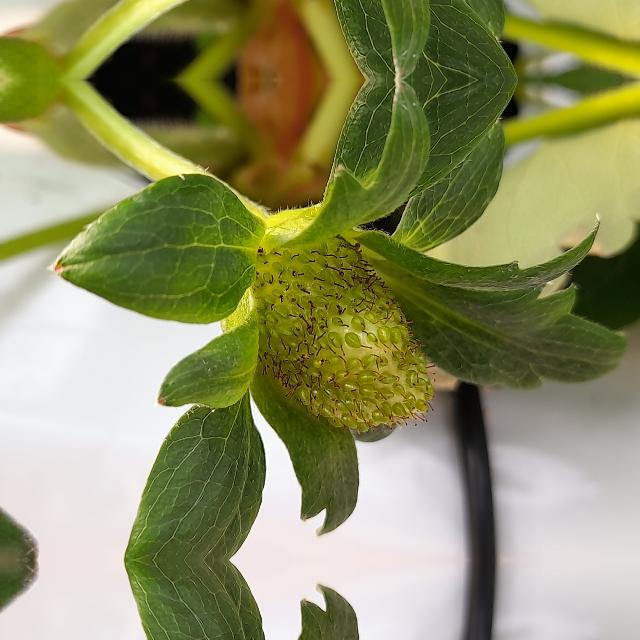Health_25: (228, 223, 436, 434)
